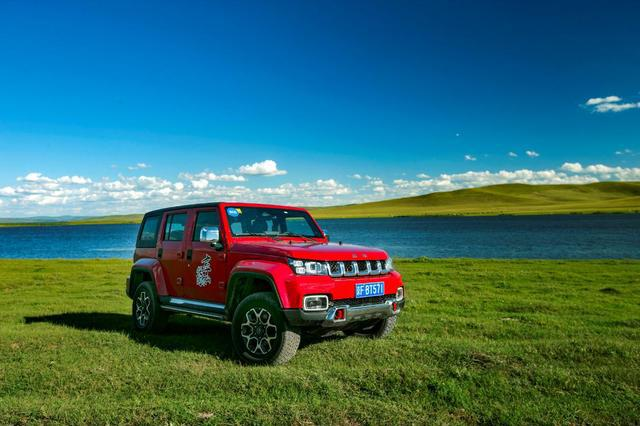car: (123, 197, 412, 362)
